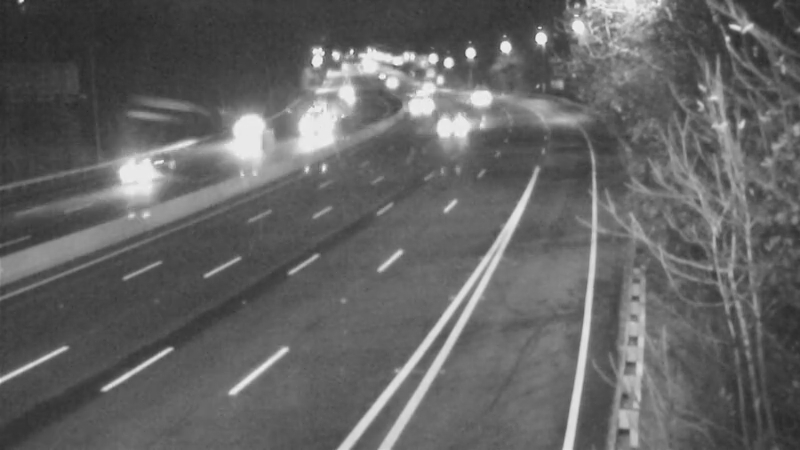vehicle: (101, 134, 181, 214), (361, 58, 411, 108), (451, 75, 501, 125), (396, 79, 446, 129), (427, 101, 477, 151), (221, 101, 271, 151), (288, 103, 338, 153)
